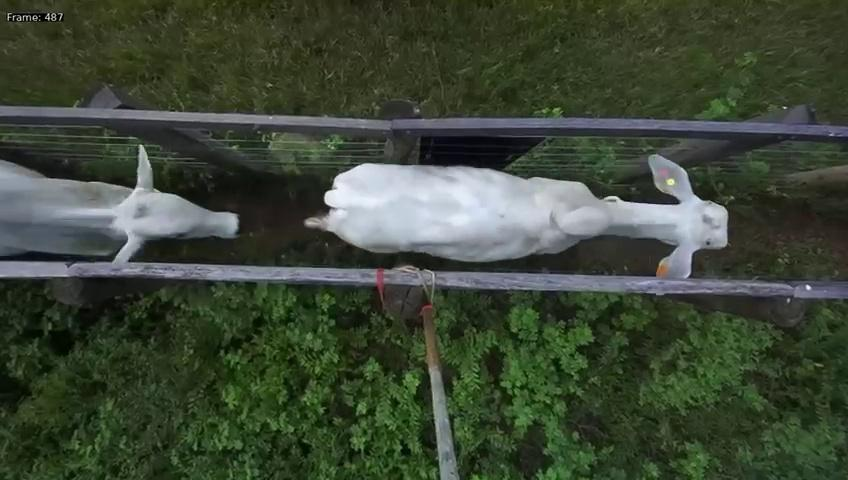cattle: (301, 144, 731, 276), (1, 141, 242, 264)
